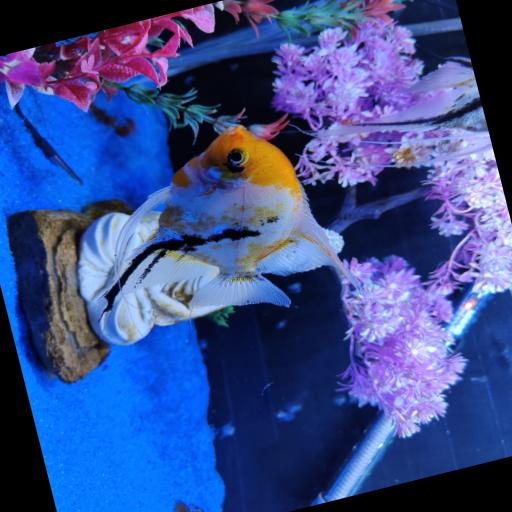Fish: (102, 125, 362, 315), (309, 56, 491, 165)
